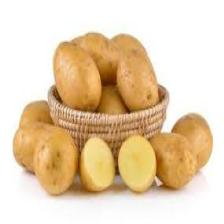Potato: (50, 39, 102, 112), (30, 124, 80, 196), (170, 109, 214, 176), (116, 45, 160, 110)
